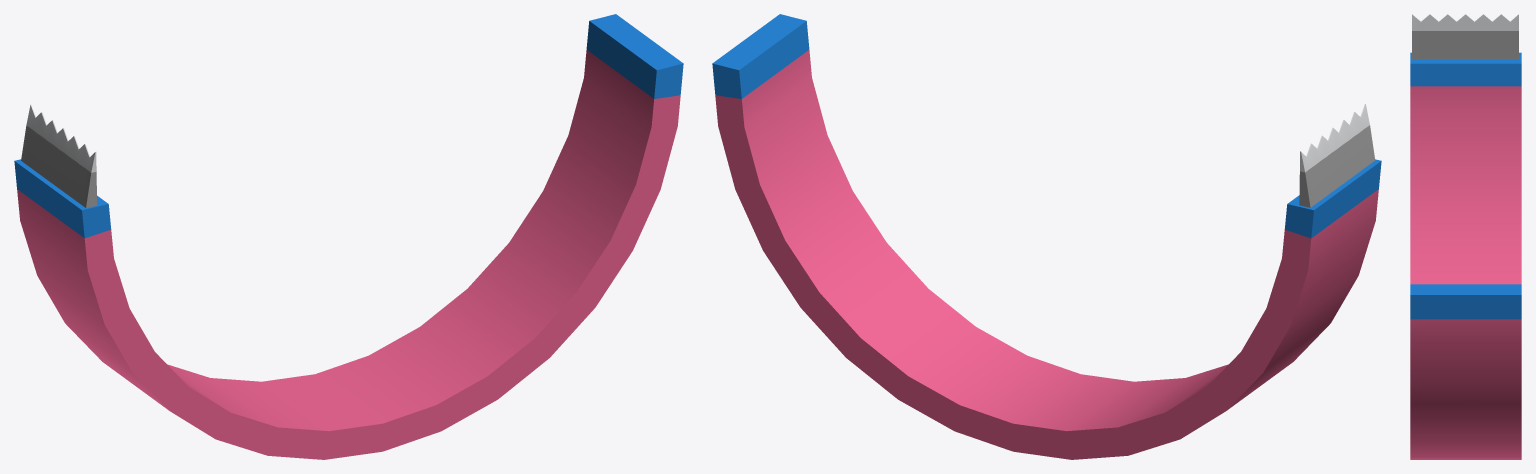
The model's file is trap_017.fbx.
The picture shows the model from 3 angles, left to right: view 1: azimuth 30°, elevation 25°; view 2: azimuth 150°, elevation 25°; view 3: azimuth 270°, elevation 25°; orthographic projection. The views are drawn at different scales.
Parts seen in each view (by area): view 1: trap_017; view 2: trap_017; view 3: trap_017.
Boxes of the visible parts, bbox=[...] form: trap_017: bbox=[14, 14, 683, 459]; trap_017: bbox=[712, 14, 1381, 459]; trap_017: bbox=[1410, 14, 1521, 459].
Bounding box in the file's own units: 2354 × 1379 × 458.
